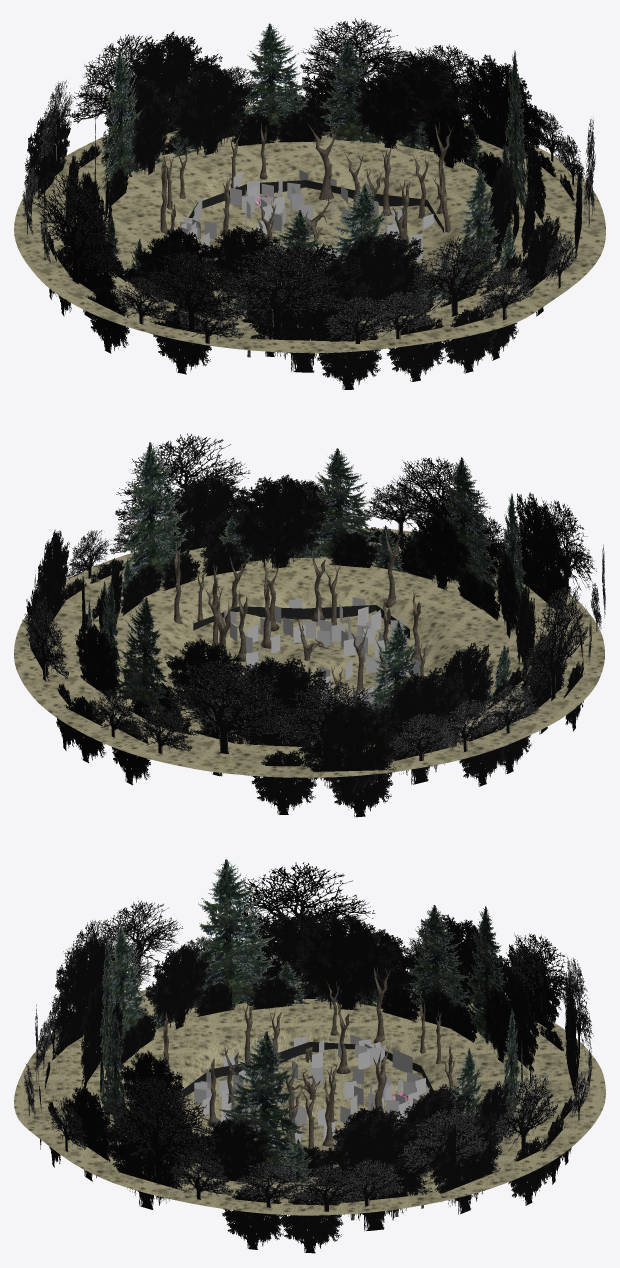
File: passthrough.obj
The picture shows the model from 3 angles, top to bottom: view 1: azimuth 30°, elevation 25°; view 2: azimuth 150°, elevation 25°; view 3: azimuth 270°, elevation 25°; orthographic projection.
Visible parts, largest first — view 1: Tree_1, Sand, Tree_3, Tree_2, Tree_4, Weeds, Gate; view 2: Tree_1, Sand, Tree_3, Tree_2, Tree_4, Weeds, Gate; view 3: Tree_1, Sand, Tree_3, Tree_2, Weeds, Tree_4, Gate.
Boxes of the visible parts, x1,y1,x2,y2 form: Tree_1: (24,30,582,389); Sand: (14,104,605,353); Tree_3: (22,18,595,347); Tree_2: (94,23,528,361); Tree_4: (160,121,453,248); Weeds: (179,170,433,271); Gate: (188,180,443,232); Tree_1: (26,474,584,817); Sand: (14,528,604,777); Tree_3: (22,433,605,760); Tree_2: (87,442,526,776); Tree_4: (174,528,428,704); Weeds: (219,597,421,710); Gate: (193,605,414,680); Tree_1: (39,911,579,1253); Sand: (14,973,605,1215); Tree_3: (24,862,593,1211); Tree_2: (99,859,523,1220); Weeds: (182,1034,449,1146); Tree_4: (163,966,455,1152); Gate: (179,1042,433,1097).
Bounding box in the file's own units: 152 × 57.06 × 153.
